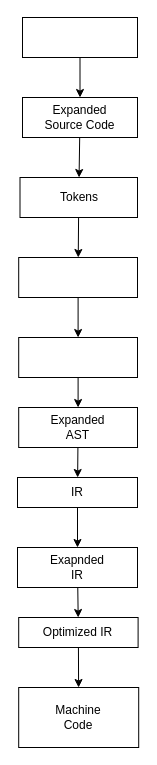
This 157x765 diagram has some shape labels left out. The shapes that lost their labels are listed below. From the top down, each one's box as (x1, y1, x2, y2) in pixels, then its label:
(22, 16, 138, 58): Source Code
(18, 256, 138, 298): Expanded Tokens
(18, 336, 138, 378): AST
